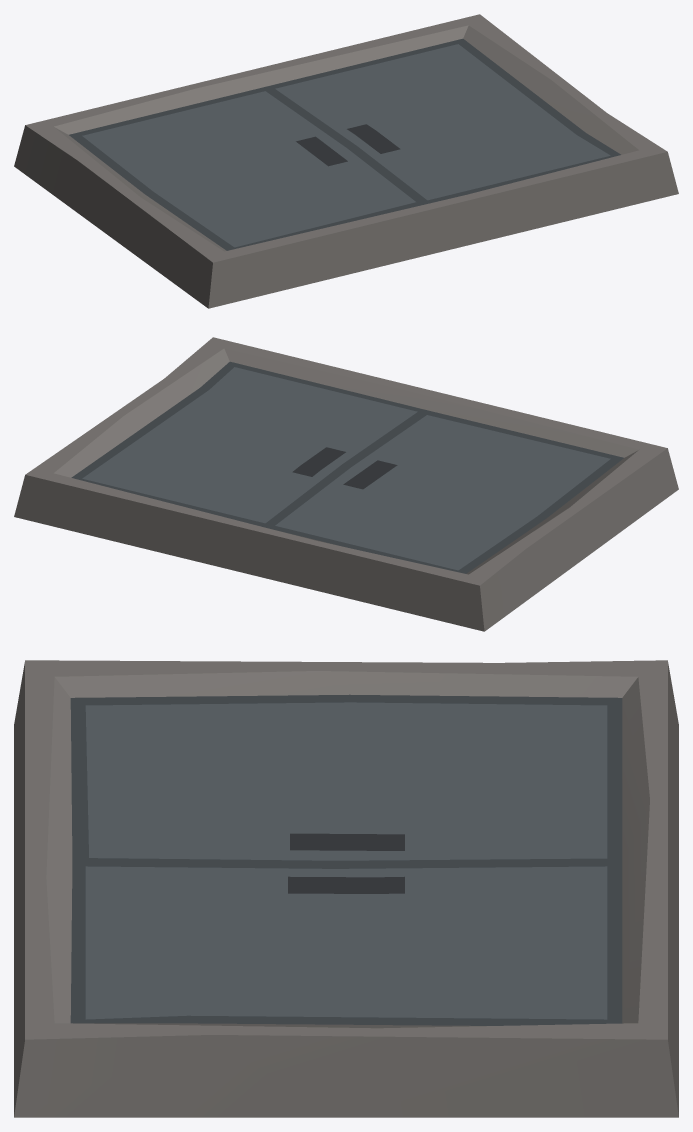
File: SM_Prop_ElectricalCover_01.fbx
3 views of the same model, one above another, from view 1: azimuth 30°, elevation 25°; view 2: azimuth 150°, elevation 25°; view 3: azimuth 270°, elevation 25° (orthographic). The views are drawn at different scales.
Visible parts, largest first — view 1: SM_Prop_ElectricalCover_01; view 2: SM_Prop_ElectricalCover_01; view 3: SM_Prop_ElectricalCover_01.
Boxes of the visible parts, x1,y1,x2,y2 form: SM_Prop_ElectricalCover_01: (14, 14, 678, 308); SM_Prop_ElectricalCover_01: (14, 337, 678, 631); SM_Prop_ElectricalCover_01: (14, 660, 678, 1117).
Bounding box in the file's own units: 168 × 14.28 × 121.
